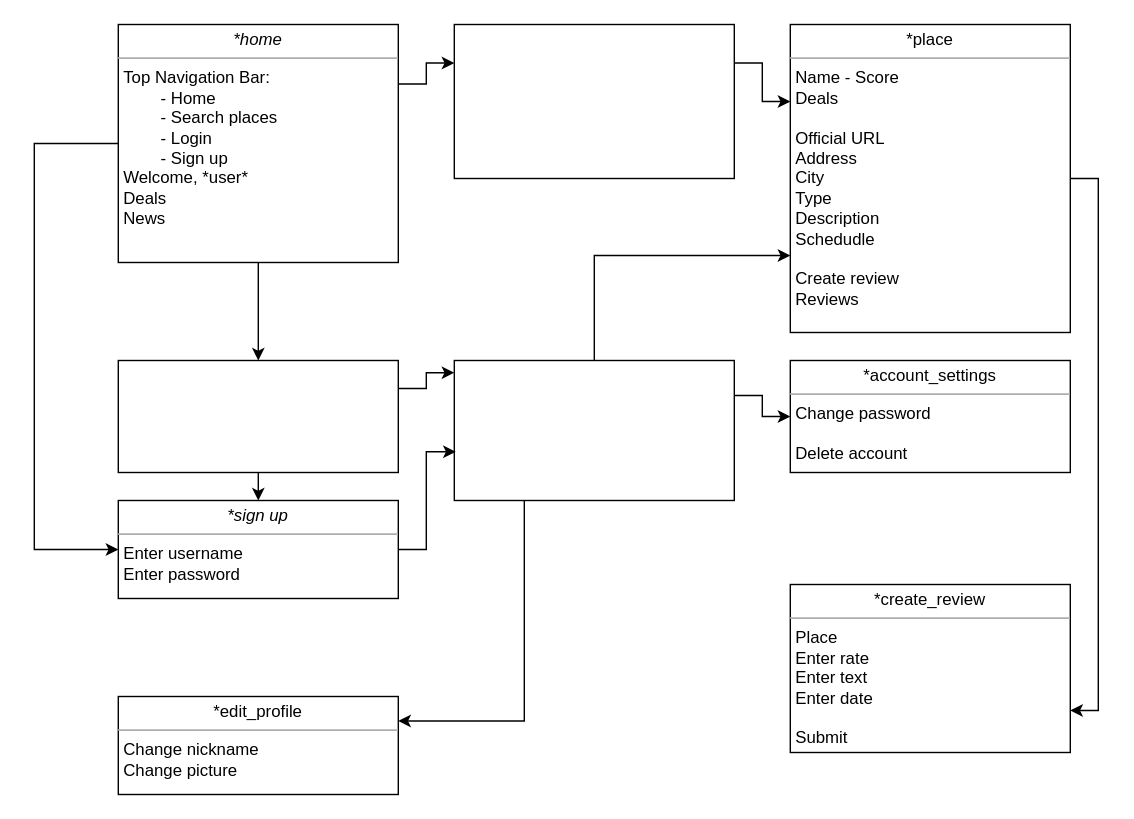
Image size: 1134x819. Some labels were removed from this diagram. Each missing label, with the centre of its shape:
"*l ogin Log in: Enter username Enter password" goes at (x=257, y=415).
"*profile Name / Fursona Profile picture Reviews" goes at (x=593, y=429).
"*search Filters: - Type - Town List of Places" goes at (x=593, y=100).
